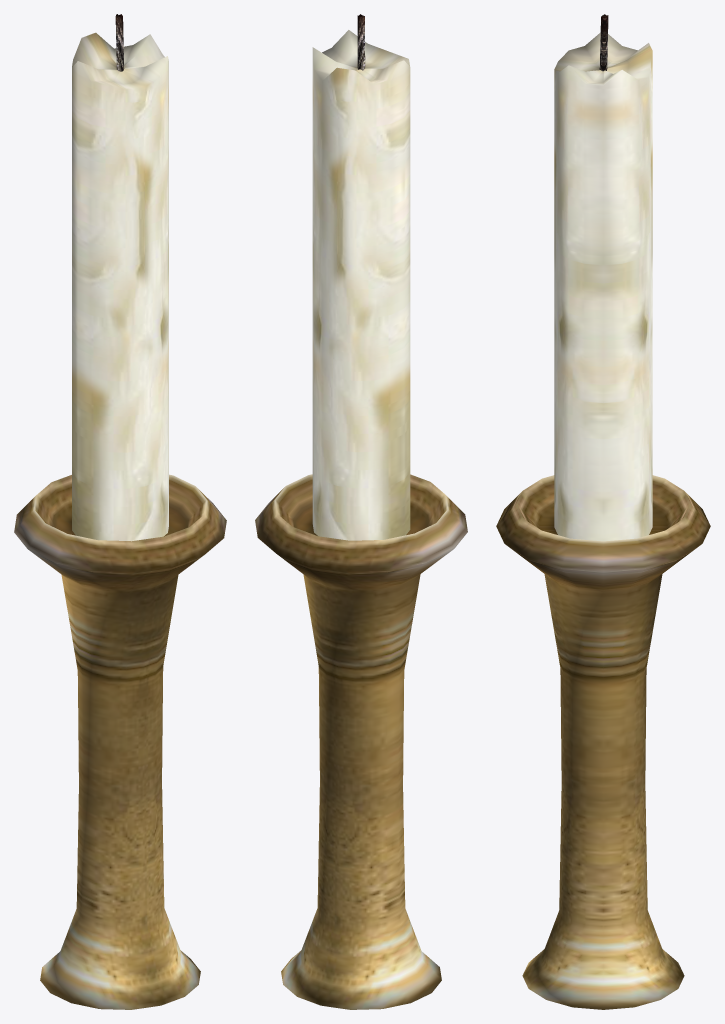
Rendered from candle.obj.
The picture shows the model from 3 angles, left to right: view 1: azimuth 30°, elevation 25°; view 2: azimuth 150°, elevation 25°; view 3: azimuth 270°, elevation 25°; orthographic projection.
Visible parts, largest first — view 1: Cylinder; view 2: Cylinder; view 3: Cylinder.
Part boxes in pixels (x1,y1,x2,y2): Cylinder: (14,14,226,1009); Cylinder: (255,14,467,1009); Cylinder: (496,14,710,1009).
Bounding box in the file's own units: 0.3186 × 1.58 × 0.3186.
Materials: 1 (1 with a texture image).
